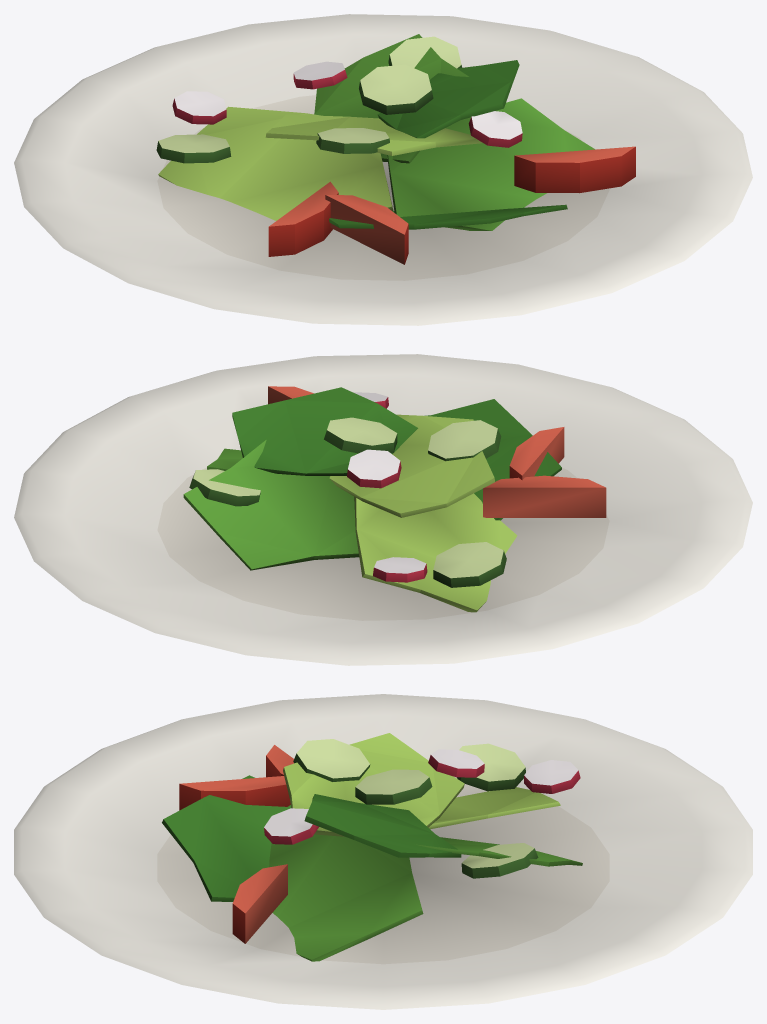
Rendered from freshPlate.glb.
3 renders of one model, top to bottom at view 1: azimuth 30°, elevation 25°; view 2: azimuth 150°, elevation 25°; view 3: azimuth 270°, elevation 25°, orthographic.
Parts seen in each view (by area): view 1: freshPlate; view 2: freshPlate; view 3: freshPlate.
Part boxes in pixels (box(x1,y1,x2,y2)): freshPlate: box(14, 14, 752, 325); freshPlate: box(14, 354, 752, 665); freshPlate: box(14, 694, 752, 1009).
Bounding box in the file's own units: 0.2876 × 0.0514 × 0.2847.
